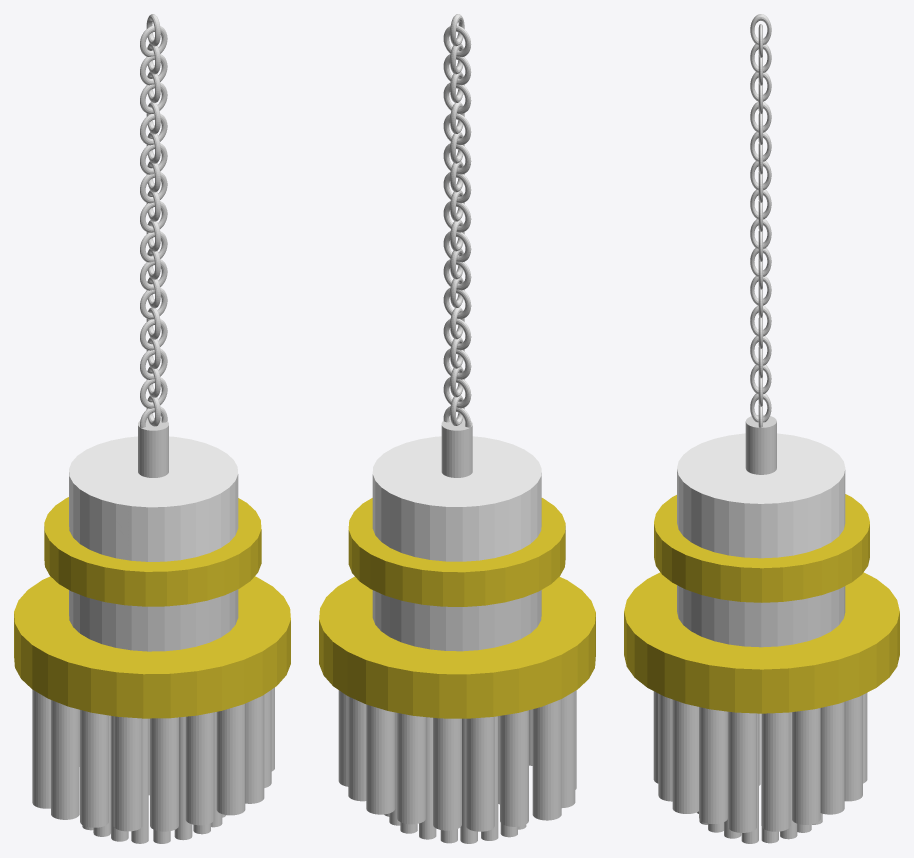
The model's file is chandeleir.fbx.
3 views of the same model, side by side, from view 1: azimuth 30°, elevation 25°; view 2: azimuth 150°, elevation 25°; view 3: azimuth 270°, elevation 25° (orthographic).
Visible parts, largest first — view 1: Cylinder.003; view 2: Cylinder.003; view 3: Cylinder.003.
Part boxes in pixels (bbox=[...]): Cylinder.003: bbox=[14, 14, 290, 843]; Cylinder.003: bbox=[319, 14, 595, 843]; Cylinder.003: bbox=[624, 14, 899, 843].
Size of the model in its own units: 1133 by 3612 by 1133.
